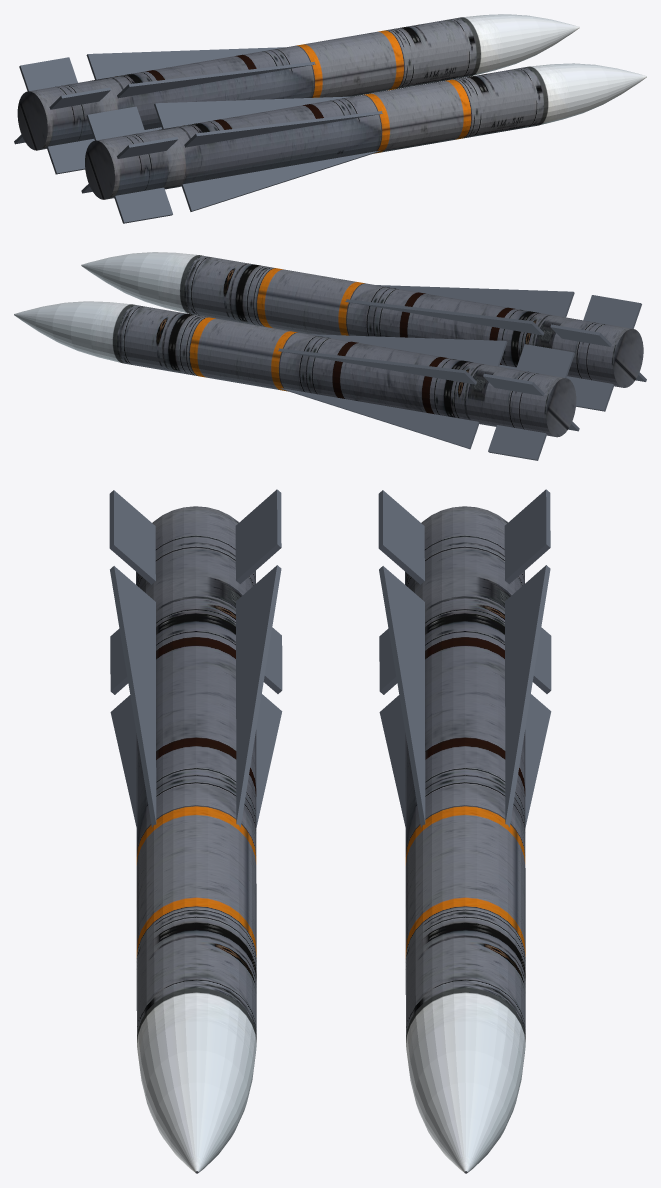
The model's file is f14baim5425.glb.
3 renders of one model, top to bottom at view 1: azimuth 30°, elevation 25°; view 2: azimuth 150°, elevation 25°; view 3: azimuth 270°, elevation 25°, orthographic. The views are drawn at different scales.
Visible parts, largest first — view 1: 立方体.004, 立方体.005; view 2: 立方体.005, 立方体.004; view 3: 立方体.004, 立方体.005.
Boxes of the visible parts, x1,y1,x2,y2 form: 立方体.004: (81,63,646,223); 立方体.005: (14,14,579,174); 立方体.005: (14,301,579,460); 立方体.004: (81,252,646,411); 立方体.004: (109,489,282,1173); 立方体.005: (378,489,551,1173).
Bounding box in the file's own units: 4.61 × 0.7853 × 1.61.
3 materials, 1 textured.
